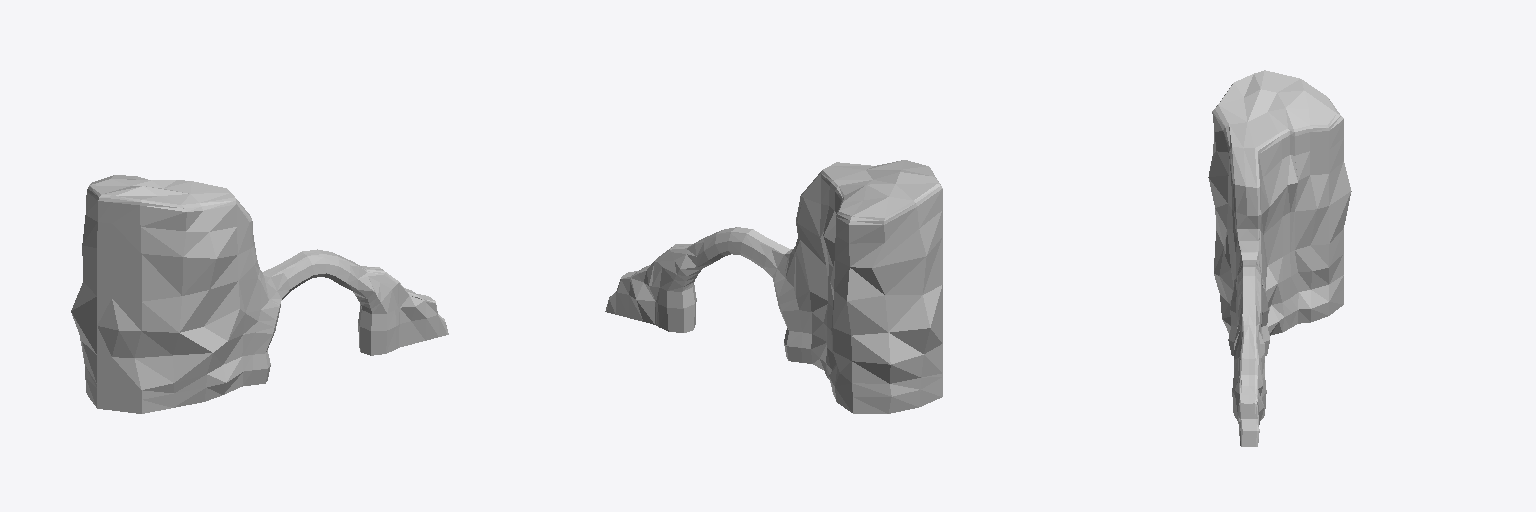
The model's file is Overpass_bevel.obj.
3 views of the same model, side by side, from view 1: azimuth 30°, elevation 25°; view 2: azimuth 150°, elevation 25°; view 3: azimuth 270°, elevation 25° (orthographic).
Parts seen in each view (by area): view 1: Overpass_split Overpass_front, Overpass_split Overpass_top, Overpass_split Overpass_end, Overpass_middle Overpass_split, Overpass_split Overpass_back; view 2: Overpass_split Overpass_back, Overpass_split Overpass_end, Overpass_split Overpass_top, Overpass_middle Overpass_split; view 3: Overpass_split Overpass_back, Overpass_split Overpass_top, Overpass_split Overpass_front, Overpass_split Overpass_end, Overpass_middle Overpass_split.
Part boxes in pixels (left/top/right/bottom): Overpass_split Overpass_front: left=135, top=201, right=280, bottom=413; Overpass_split Overpass_top: left=88, top=175, right=262, bottom=413; Overpass_split Overpass_end: left=356, top=266, right=448, bottom=355; Overpass_middle Overpass_split: left=262, top=249, right=373, bottom=305; Overpass_split Overpass_back: left=71, top=189, right=98, bottom=407; Overpass_split Overpass_back: left=774, top=174, right=942, bottom=413; Overpass_split Overpass_end: left=605, top=244, right=698, bottom=332; Overpass_split Overpass_top: left=792, top=160, right=940, bottom=250; Overpass_middle Overpass_split: left=680, top=227, right=792, bottom=283; Overpass_split Overpass_back: left=1258, top=116, right=1351, bottom=355; Overpass_split Overpass_top: left=1215, top=70, right=1340, bottom=252; Overpass_split Overpass_front: left=1208, top=106, right=1240, bottom=355; Overpass_split Overpass_end: left=1232, top=325, right=1266, bottom=446; Overpass_middle Overpass_split: left=1234, top=253, right=1264, bottom=342.
Bounding box in the file's own units: 16.78 × 9.89 × 5.99.